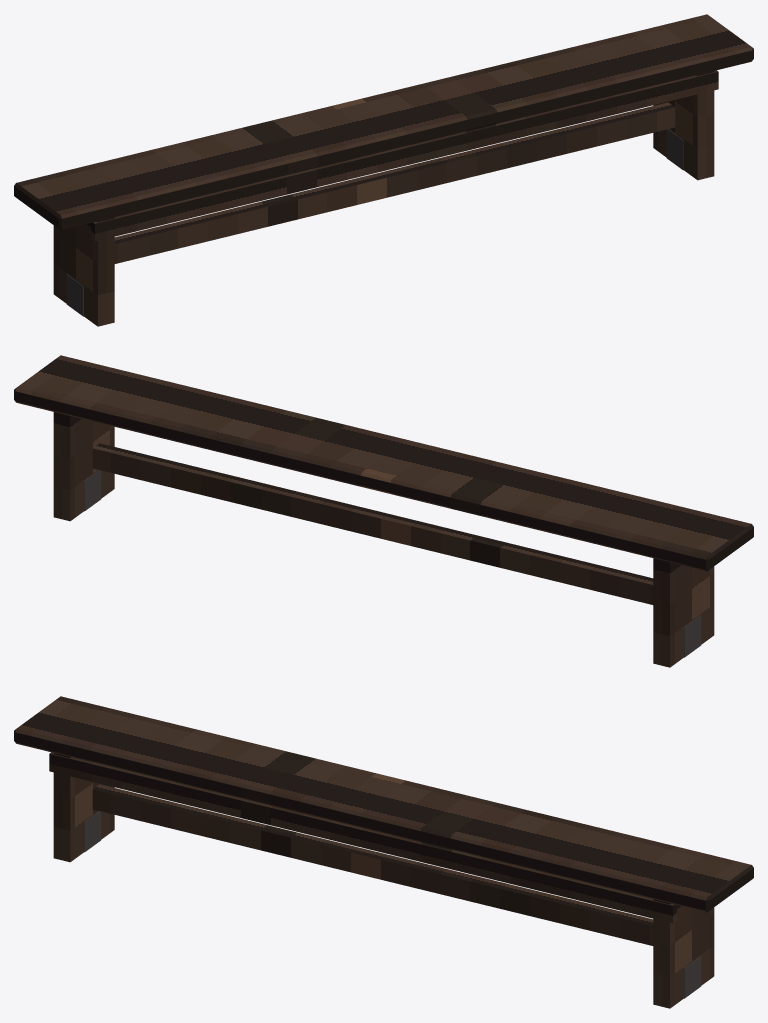
The model's file is castle_bench.glb.
The picture shows the model from 3 angles, top to bottom: view 1: azimuth 30°, elevation 25°; view 2: azimuth 150°, elevation 25°; view 3: azimuth 330°, elevation 25°; orthographic projection.
Parts seen in each view (by area): view 1: body; view 2: body; view 3: body.
Boxes of the visible parts, x1,y1,x2,y2 form: body: (14,14,753,326); body: (14,355,753,667); body: (14,696,753,1008).
Bounding box in the file's own units: 2.9 × 0.48 × 0.34.
Materials: 2 (1 with a texture image).
